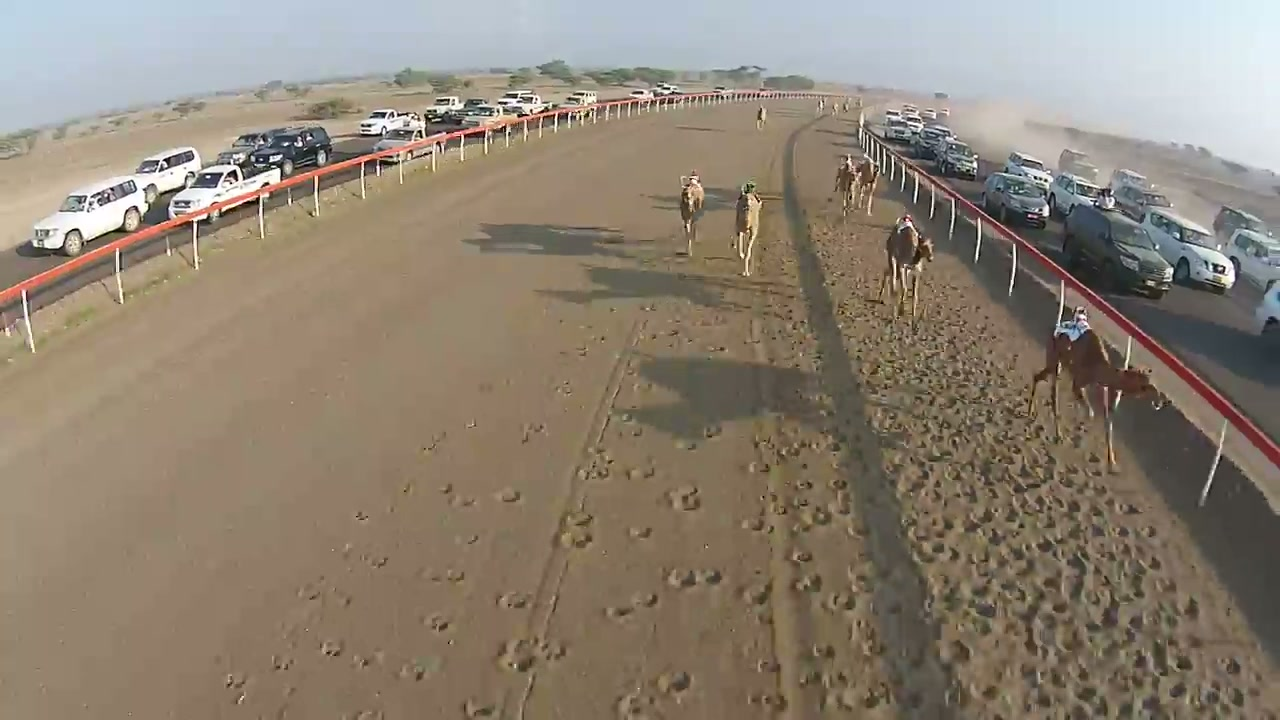animal_footprint: (482, 424, 920, 719), (920, 434, 1191, 693), (240, 464, 484, 708), (626, 415, 728, 544), (497, 480, 613, 558)
